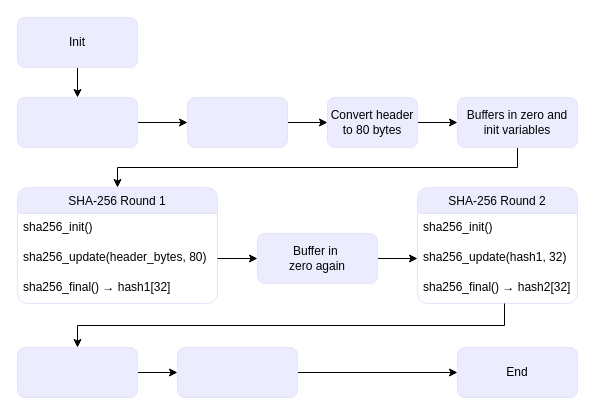
Image size: 595x415. Some labels were removed from this diagram. The centre of each missing label's shape, as x and y in pixels:
"Convert hash2 to hash_result (8 x 32 bits)" goes at [77,372].
"Define: ap_busy_out = false" goes at [237,372].
"Define: ap_busy_out = true" goes at [77,122].
"Receive header (20 x 32 bits)" goes at [237,122].
